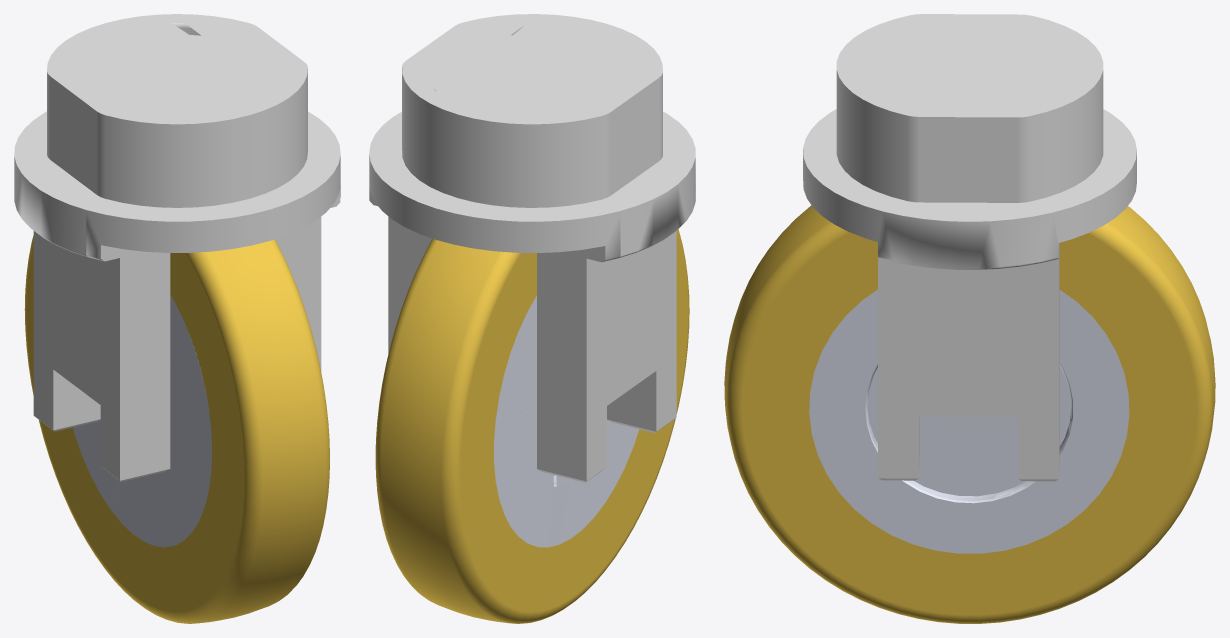
Rendered from RightLeg_LXC_Light_FrontWheels.fbx.
3 views of the same model, side by side, from view 1: azimuth 30°, elevation 25°; view 2: azimuth 150°, elevation 25°; view 3: azimuth 270°, elevation 25° (orthographic). The views are drawn at different scales.
Visible parts, largest first — view 1: RightLegFrontWheel; view 2: RightLegFrontWheel; view 3: RightLegFrontWheel.
Part boxes in pixels (x1,y1,x2,y2): RightLegFrontWheel: (14,14,340,623); RightLegFrontWheel: (369,14,695,623); RightLegFrontWheel: (724,14,1215,623).
Size of the model in its own units: 8.49 by 15.3 by 12.5.
